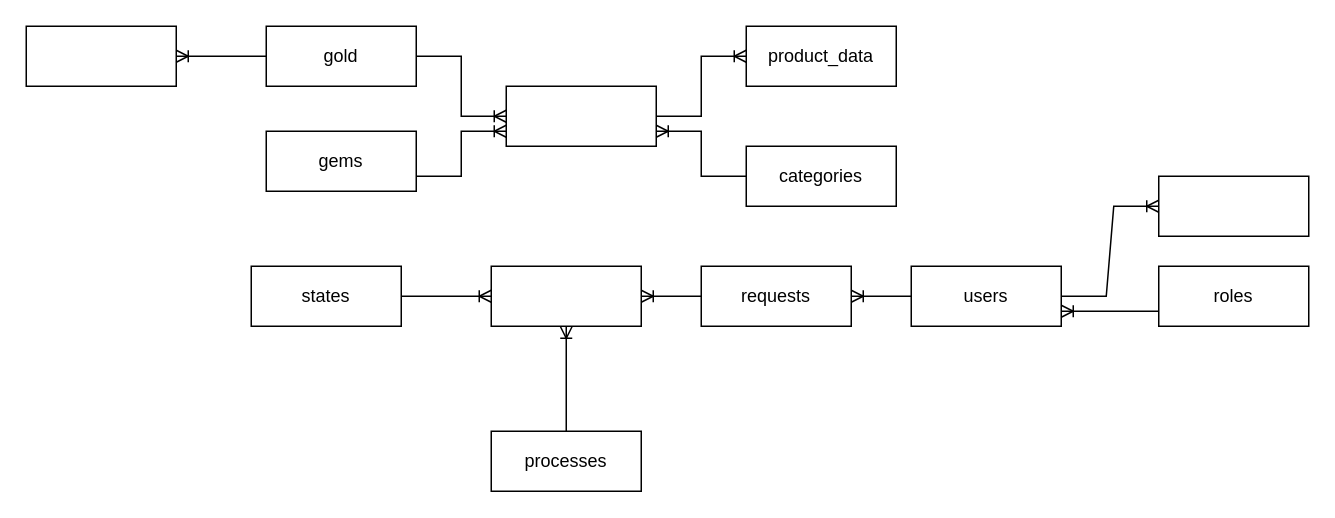
Some shapes in this 1335 by 518 pixel diagram are drawn without their labels. The shapes that lost their labels are listed below. From the top down, each one's centre as x and y in pixels, then its label:
At [100,55]: "gold_prices".
At [580,115]: "products".
At [1233,205]: "tokens".
At [565,295]: "orders".
